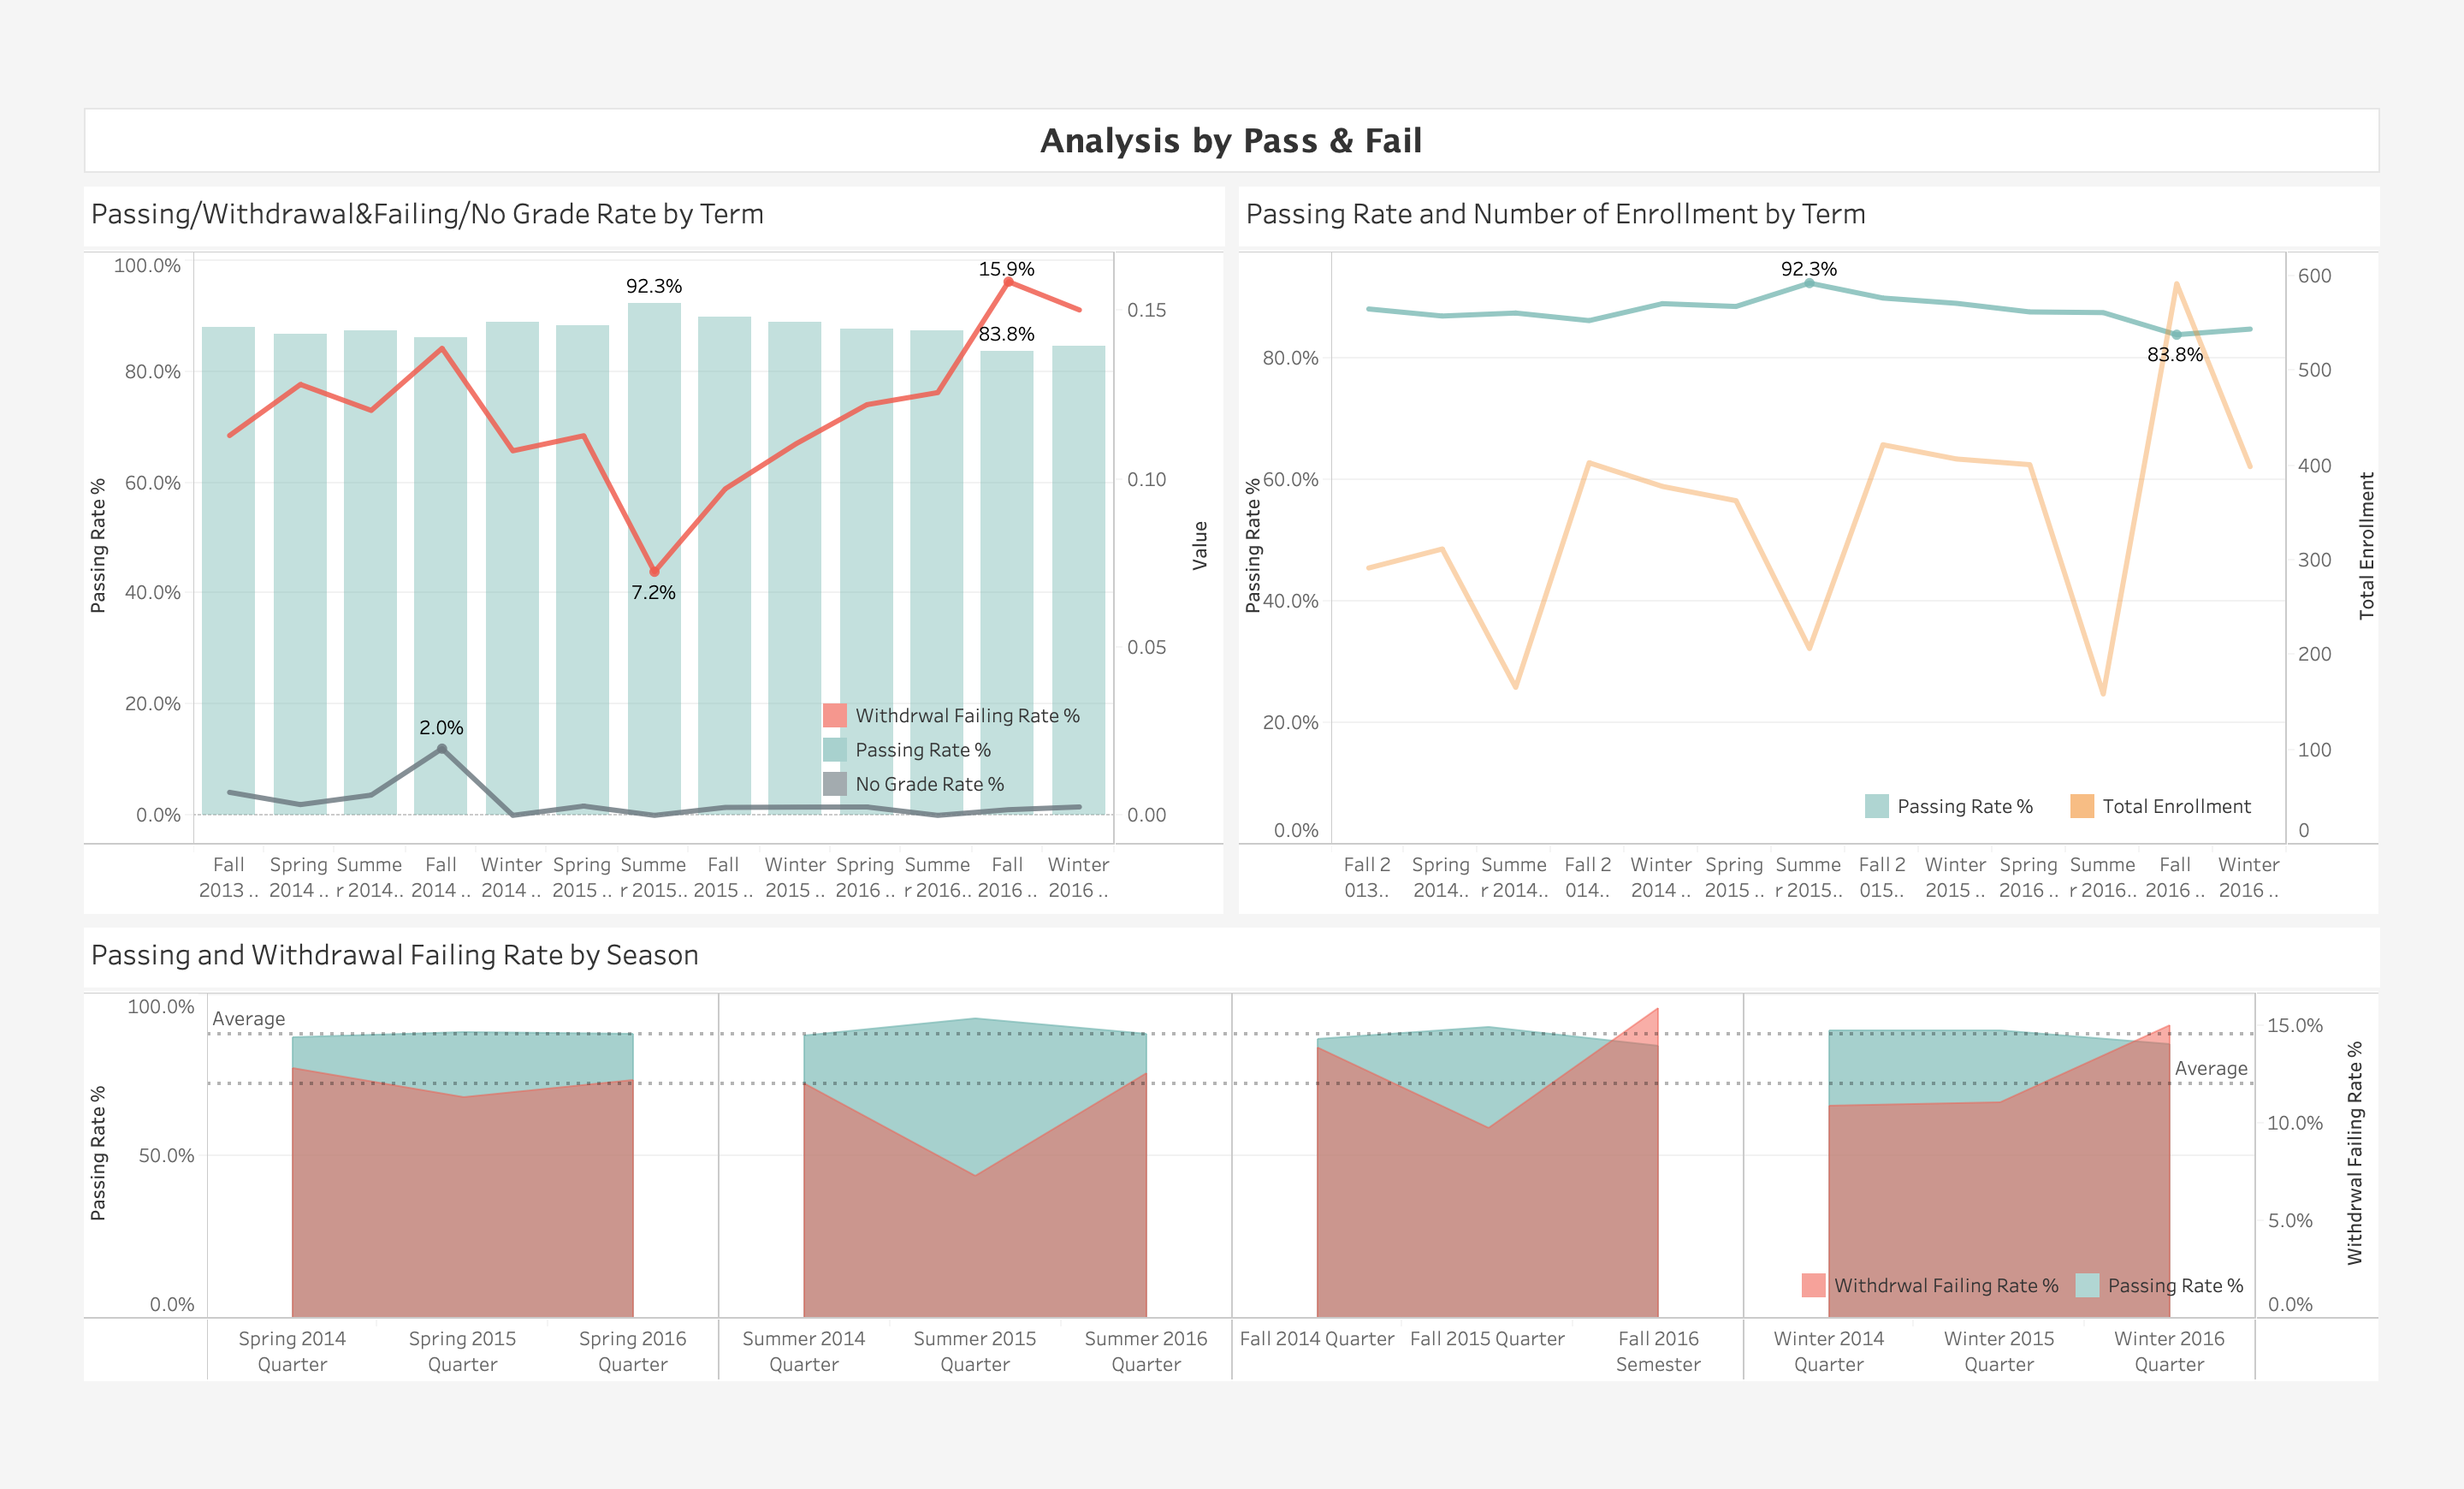

The page's visual inventory and layout, read from the dashboard file:
{"tool":"tableau","page":{"name":"DB 2","canvas":[1366,768],"ordinal":1},"visuals":[{"type":"worksheet","box":[0,0,1366,768]},{"type":"worksheet","param":"horz","box":[8,8,1350,752]},{"type":"worksheet","box":[8,8,1350,752]},{"type":"worksheet","param":"vert","box":[8,8,1350,479]},{"type":"worksheet","box":[8,8,1350,46]},{"type":"worksheet","box":[8,54,1350,433]},{"type":"worksheet","title":"Pass","mark":"Line","rows":["Calculation_2351723474301095939"],"cols":["Term"],"box":[8,54,675,433]},{"type":"worksheet","param":"horz","box":[683,54,675,433]},{"type":"worksheet","box":[683,54,675,433]},{"type":"worksheet","param":"vert","box":[683,54,675,433]},{"type":"worksheet","title":"Pass (2)","mark":"Line","rows":["Calculation_2351723474301095939","TotalEnrollment"],"cols":["Term"],"box":[683,54,675,433]},{"type":"worksheet","title":"Pass","mark":"Line","rows":["Calculation_2351723474301095939"],"cols":["Term"],"param":"[federated.0zqdbw31duuybc19380m10dxv1je].[:Measure Names]","box":[441,357,158,60]},{"type":"worksheet","title":"Pass (2)","mark":"Line","rows":["Calculation_2351723474301095939","TotalEnrollment"],"cols":["Term"],"param":"[federated.0zqdbw31duuybc19380m10dxv1je].[:Measure Names]","box":[1057,414,272,24]},{"type":"worksheet","title":"Season","mark":"Area","rows":["Calculation_2351723474301095939","Calculation_2351723474303668228"],"cols":["Term"],"box":[8,487,1350,273]},{"type":"worksheet","title":"Season","mark":"Area","rows":["Calculation_2351723474301095939","Calculation_2351723474303668228"],"cols":["Term"],"param":"[federated.0zqdbw31duuybc19380m10dxv1je].[:Measure Names]","box":[1013,695,333,29]}]}

Visuals, with their boxes on the page's 1366x768 design canvas (x1, y1, x2, y2). These are canvas units, not pixel positions in the 2464x1489 screenshot, which may show the page scaled, cropped or inside an application window:
worksheet: (0, 0, 1366, 768)
worksheet: (8, 8, 1358, 760)
worksheet: (8, 8, 1358, 760)
worksheet: (8, 8, 1358, 487)
worksheet: (8, 8, 1358, 54)
worksheet: (8, 54, 1358, 487)
"Pass" worksheet (Line marks): (8, 54, 683, 487)
worksheet: (683, 54, 1358, 487)
worksheet: (683, 54, 1358, 487)
worksheet: (683, 54, 1358, 487)
"Pass (2)" worksheet (Line marks): (683, 54, 1358, 487)
"Pass" worksheet (Line marks): (441, 357, 599, 417)
"Pass (2)" worksheet (Line marks): (1057, 414, 1329, 438)
"Season" worksheet (Area marks): (8, 487, 1358, 760)
"Season" worksheet (Area marks): (1013, 695, 1346, 724)
